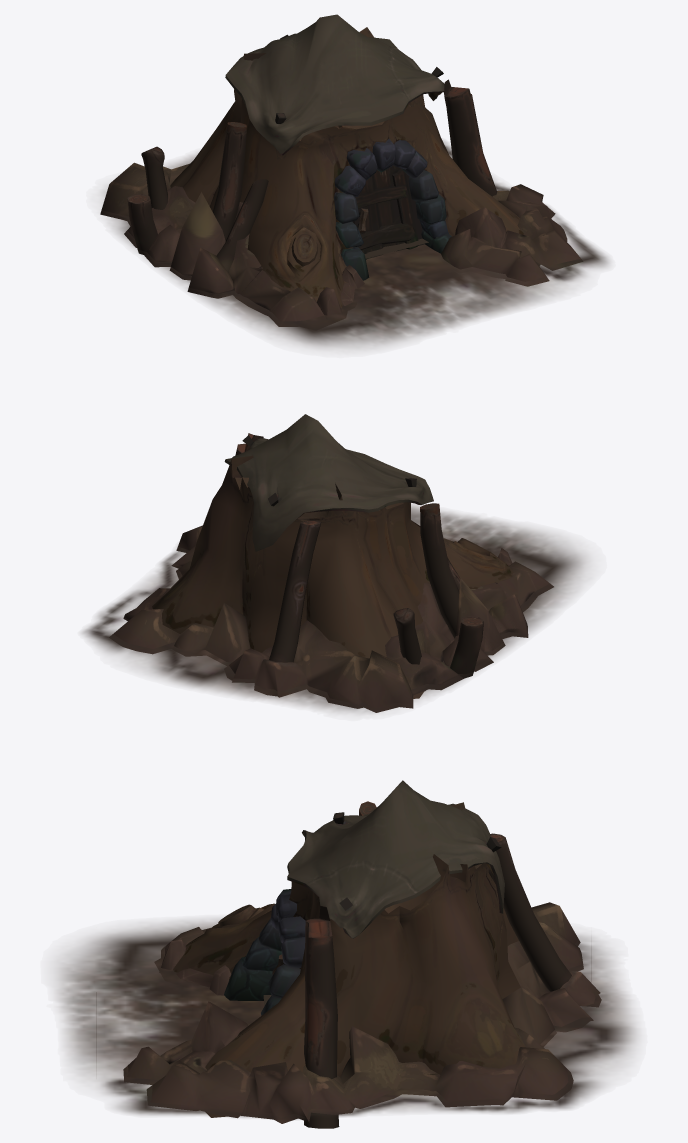
The picture shows the model from 3 angles, top to bottom: view 1: azimuth 30°, elevation 25°; view 2: azimuth 150°, elevation 25°; view 3: azimuth 270°, elevation 25°; orthographic projection. The views are drawn at different scales.
Parts seen in each view (by area): view 1: models_goblin_hut-0-building, models_goblin_hut-1-underlay, models_goblin_hut-5-building, models_goblin_hut-2-building; view 2: models_goblin_hut-0-building, models_goblin_hut-1-underlay, models_goblin_hut-5-building; view 3: models_goblin_hut-0-building, models_goblin_hut-1-underlay, models_goblin_hut-5-building.
Part boxes in pixels (x1,y1,x2,y2): models_goblin_hut-0-building: [100, 27, 581, 326]; models_goblin_hut-1-underlay: [102, 141, 609, 348]; models_goblin_hut-5-building: [225, 14, 444, 155]; models_goblin_hut-2-building: [352, 165, 424, 259]; models_goblin_hut-0-building: [110, 433, 553, 712]; models_goblin_hut-1-underlay: [82, 504, 587, 713]; models_goblin_hut-5-building: [224, 414, 433, 551]; models_goblin_hut-0-building: [123, 801, 601, 1128]; models_goblin_hut-1-underlay: [57, 919, 636, 1118]; models_goblin_hut-5-building: [287, 780, 504, 938].
Size of the model in its own units: 8 by 4.66 by 10.32.
2 materials, 2 textured.
